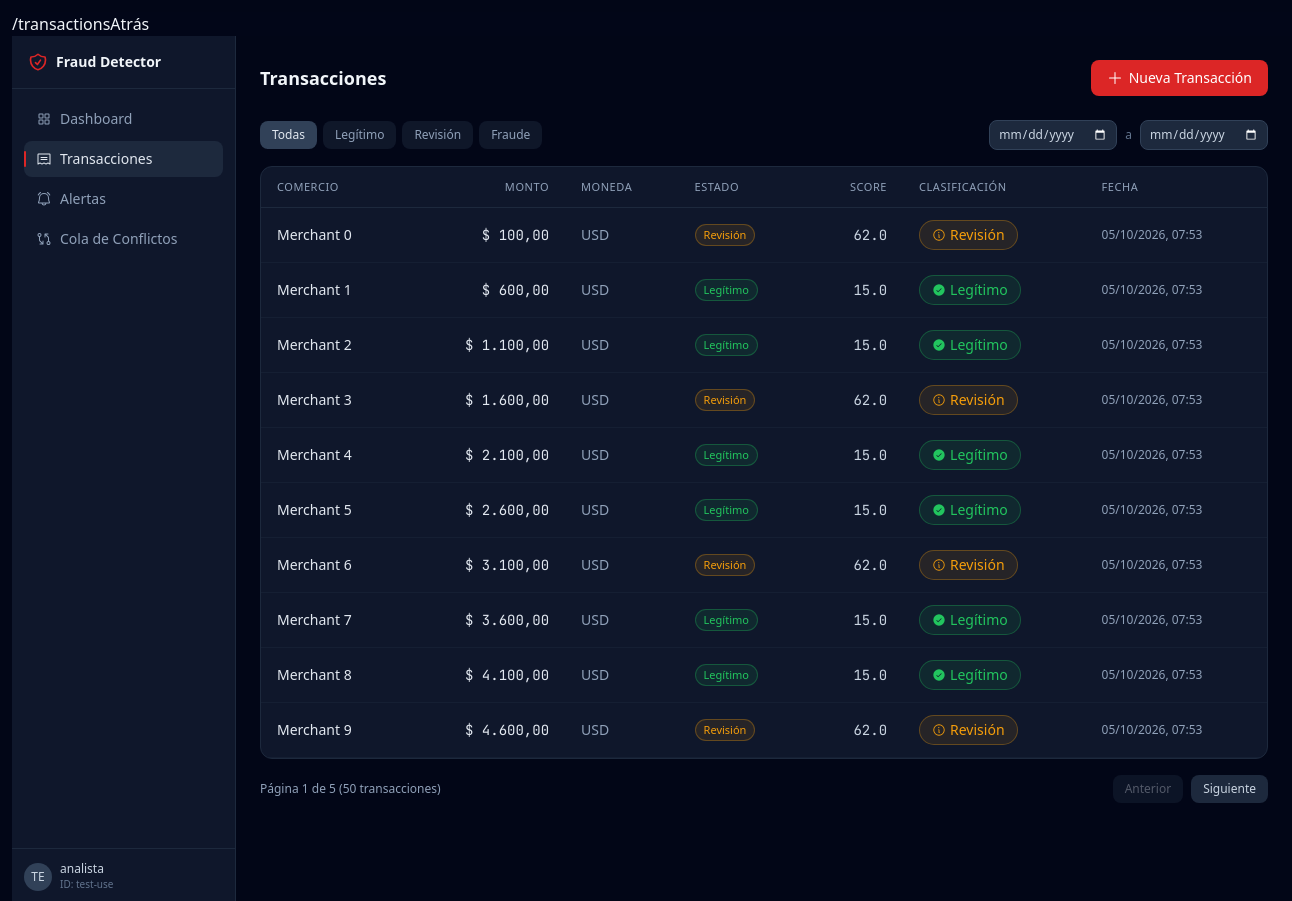
it: TransactionsPage — a filter applied in the UI updates the URL › writes the page the pagination control moved to
Expected: the text "Página 1 de 5 (50 transacciones)" is shown, [260,781,441,797]
Click the button "Siguiente" at (1230,789), box [1191,775,1268,803]
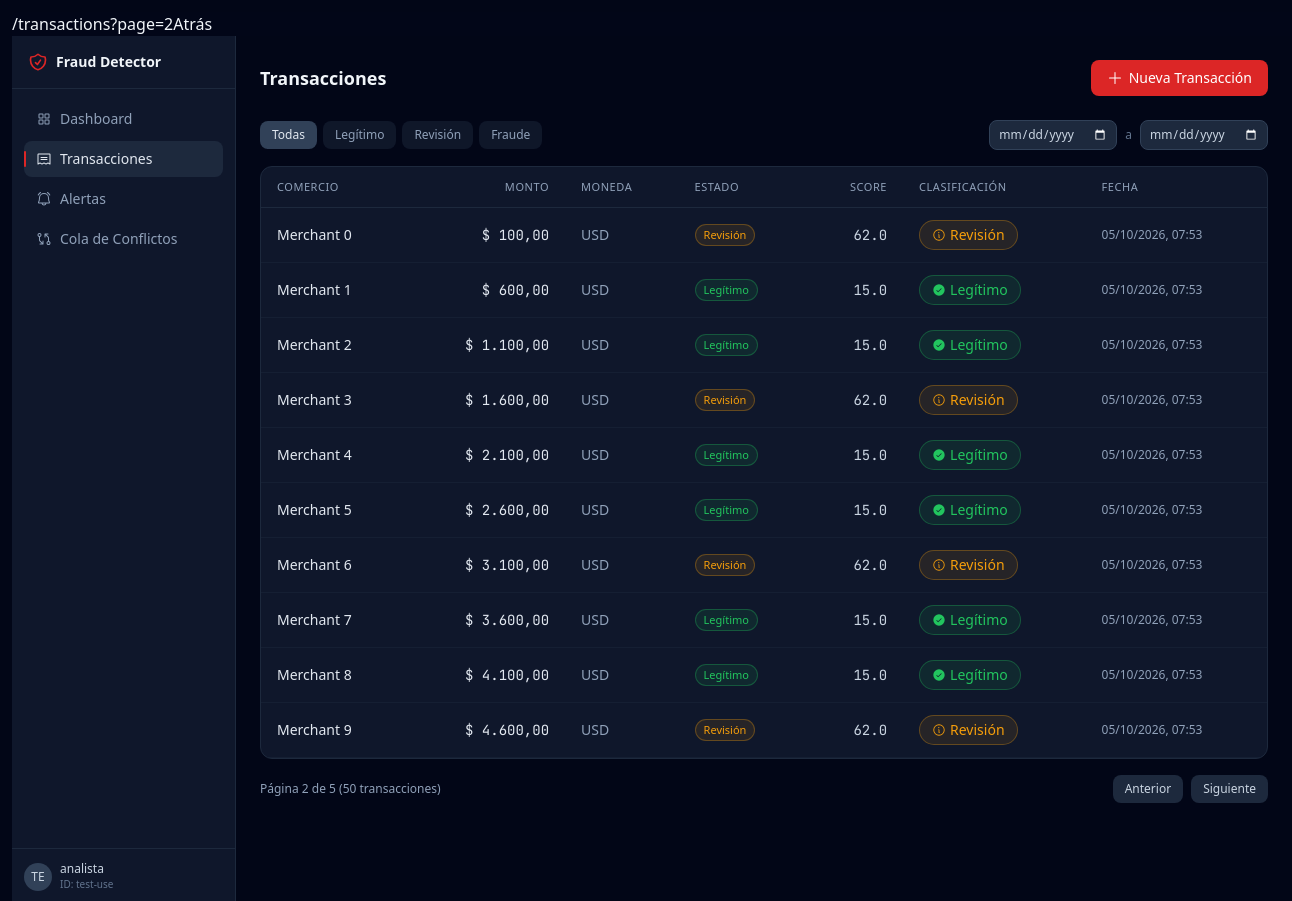
Now the text "Página 2 de 5 (50 transacciones)" is shown, box [260,781,441,797]
